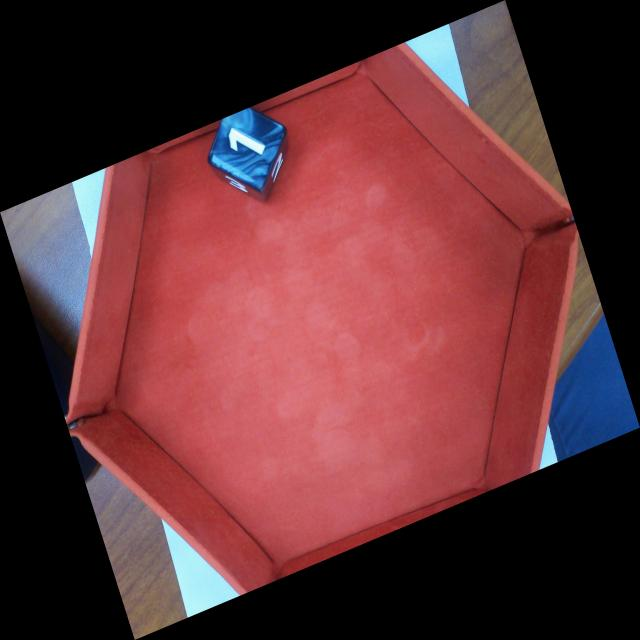dice: (206, 107, 287, 195)
